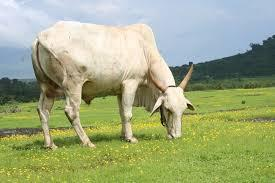cow: (32, 20, 196, 151)
